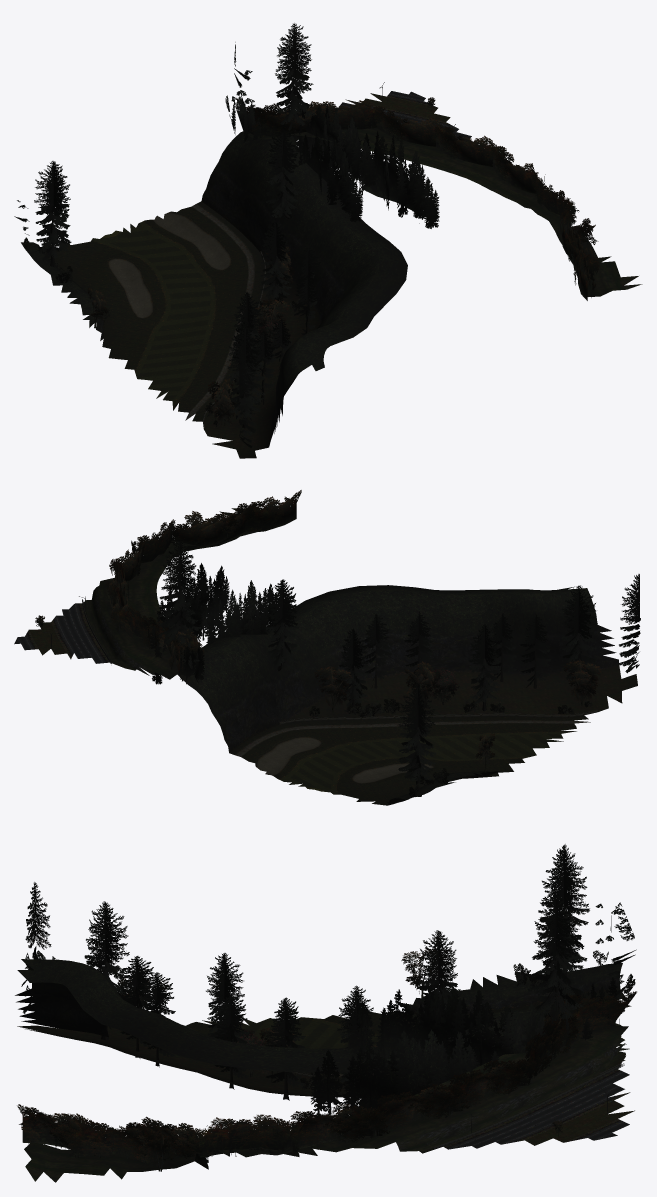
File: cell_9_-15.gltf
3 renders of one model, top to bottom at view 1: azimuth 30°, elevation 25°; view 2: azimuth 150°, elevation 25°; view 3: azimuth 270°, elevation 25°, orthographic. The views are drawn at different scales.
Visible parts, largest first — view 1: cell_9_-15; view 2: cell_9_-15; view 3: cell_9_-15.
Part boxes in pixels (x1,y1,x2,y2): cell_9_-15: (14,23,642,458); cell_9_-15: (14,490,640,805); cell_9_-15: (15,844,636,1182).
Bounding box in the file's own units: 269 × 143 × 271.
Materials: 43 (43 with a texture image).
